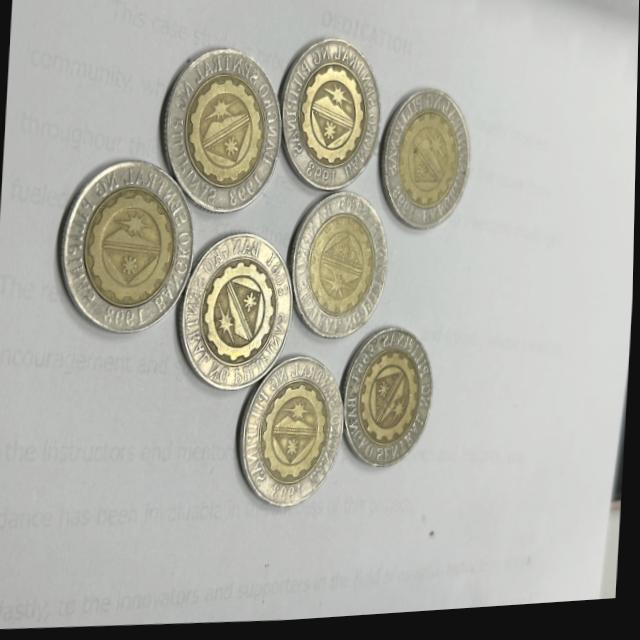10_Old_Back: (164, 56, 278, 206), (71, 172, 184, 323), (281, 37, 382, 192), (294, 194, 389, 340), (183, 249, 283, 380), (236, 376, 336, 504), (375, 104, 471, 230), (350, 340, 436, 466)
